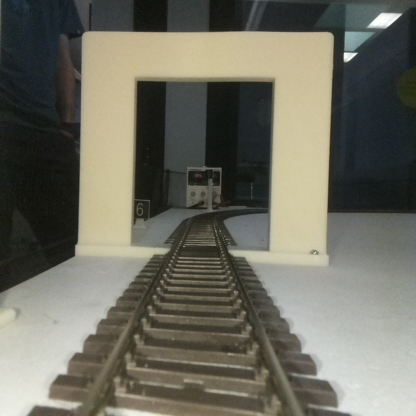black-info-9: (205, 168, 212, 210)
black-stop-6: (133, 199, 150, 227)
